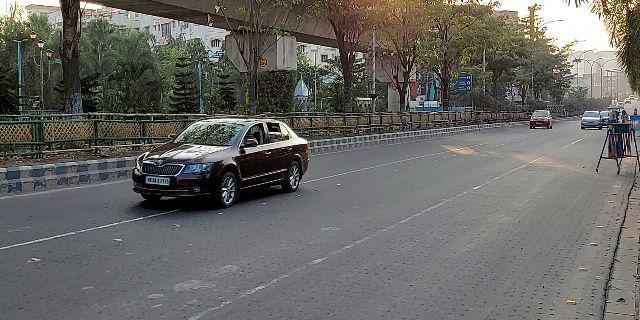Car: (129, 110, 311, 208), (526, 107, 556, 130), (579, 107, 601, 133)
